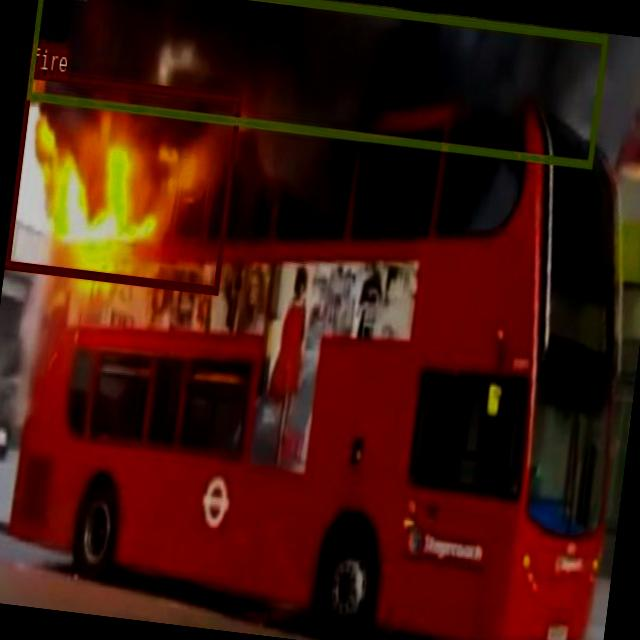fire: (4, 69, 241, 294)
smoke: (25, 0, 607, 167)
